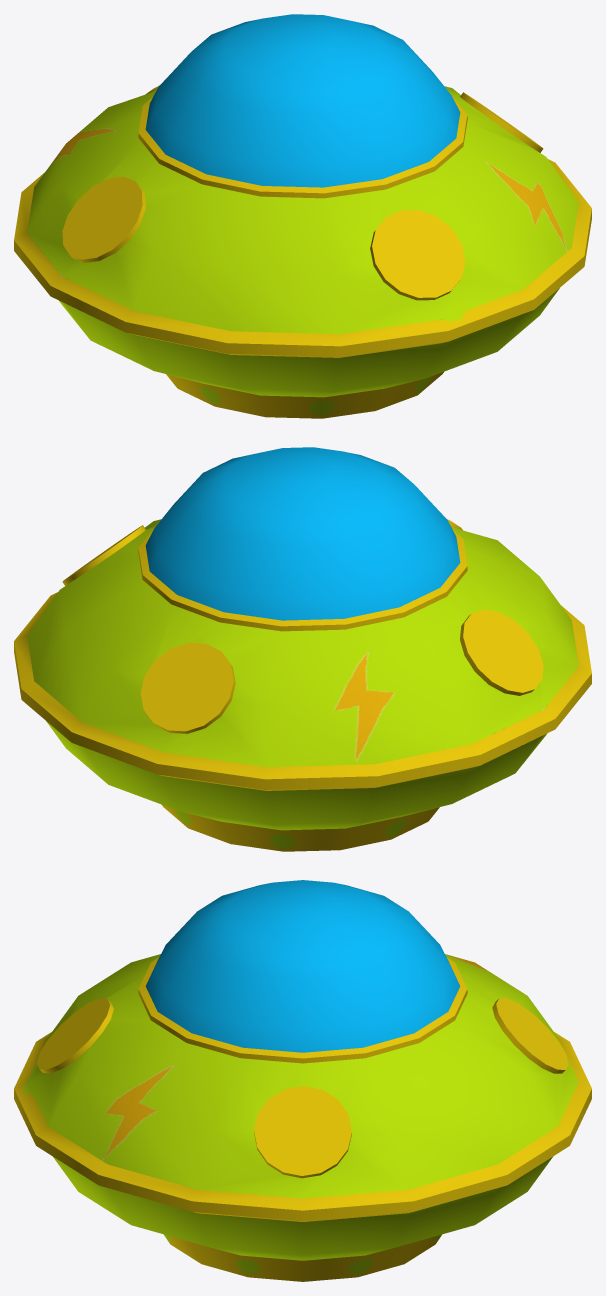
File: OBS0110198.fbx
3 views of the same model, one above another, from view 1: azimuth 30°, elevation 25°; view 2: azimuth 150°, elevation 25°; view 3: azimuth 270°, elevation 25° (orthographic).
Parts seen in each view (by area): view 1: smOBS0110198; view 2: smOBS0110198; view 3: smOBS0110198.
Boxes of the visible parts, bbox=[...] form: smOBS0110198: bbox=[14, 14, 591, 418]; smOBS0110198: bbox=[14, 447, 591, 851]; smOBS0110198: bbox=[14, 880, 591, 1281].
Size of the model in its own units: 355 by 223 by 355.
Materials: 1 (1 with a texture image).
